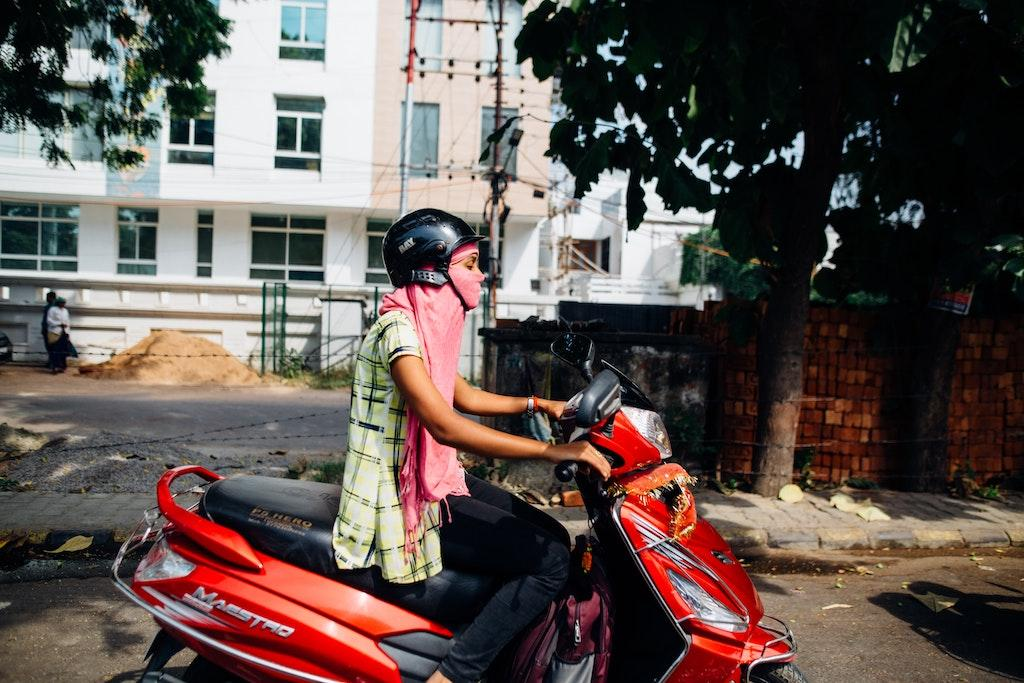helmet: (381, 207, 486, 317)
